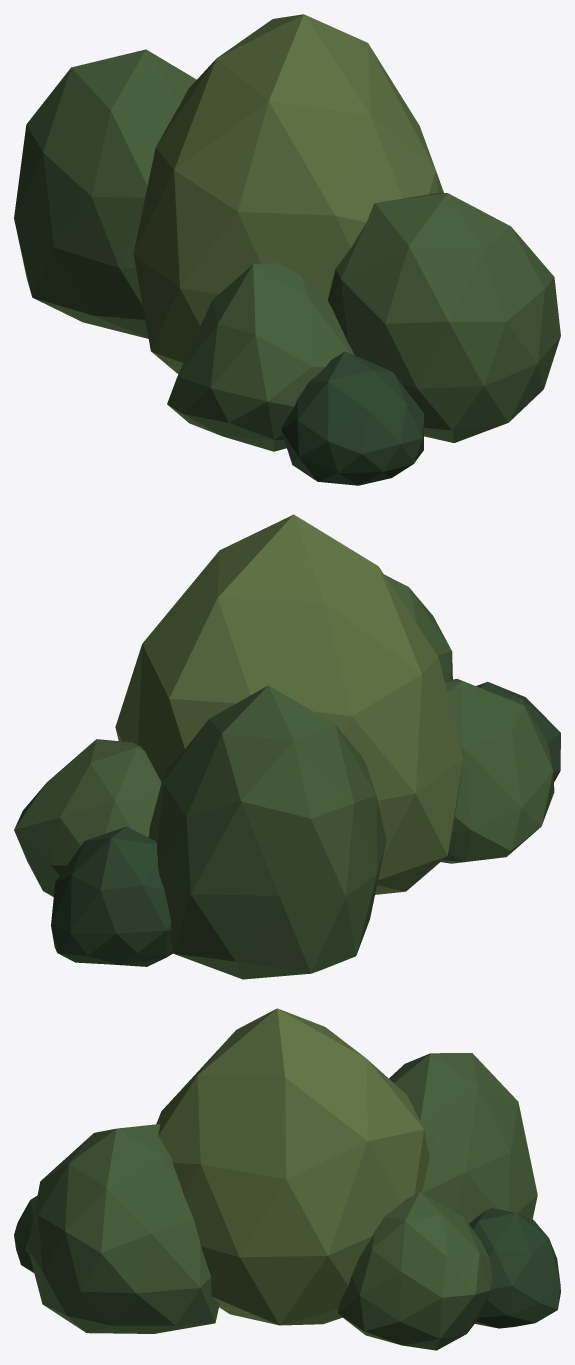
File: Bush.fbx
3 renders of one model, top to bottom at view 1: azimuth 30°, elevation 25°; view 2: azimuth 150°, elevation 25°; view 3: azimuth 270°, elevation 25°, orthographic. The views are drawn at different scales.
Visible parts, largest first — view 1: Icosphere.015; view 2: Icosphere.015; view 3: Icosphere.015.
Boxes of the visible parts, x1,y1,x2,y2 form: Icosphere.015: (14, 14, 560, 485); Icosphere.015: (14, 514, 560, 979); Icosphere.015: (14, 1008, 560, 1350).
Size of the model in its own units: 109 by 104 by 174.
